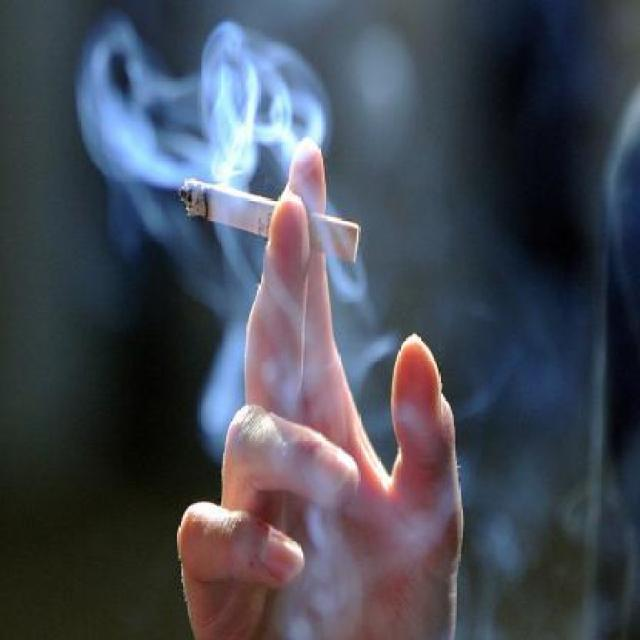smoke: (179, 175, 363, 260)
